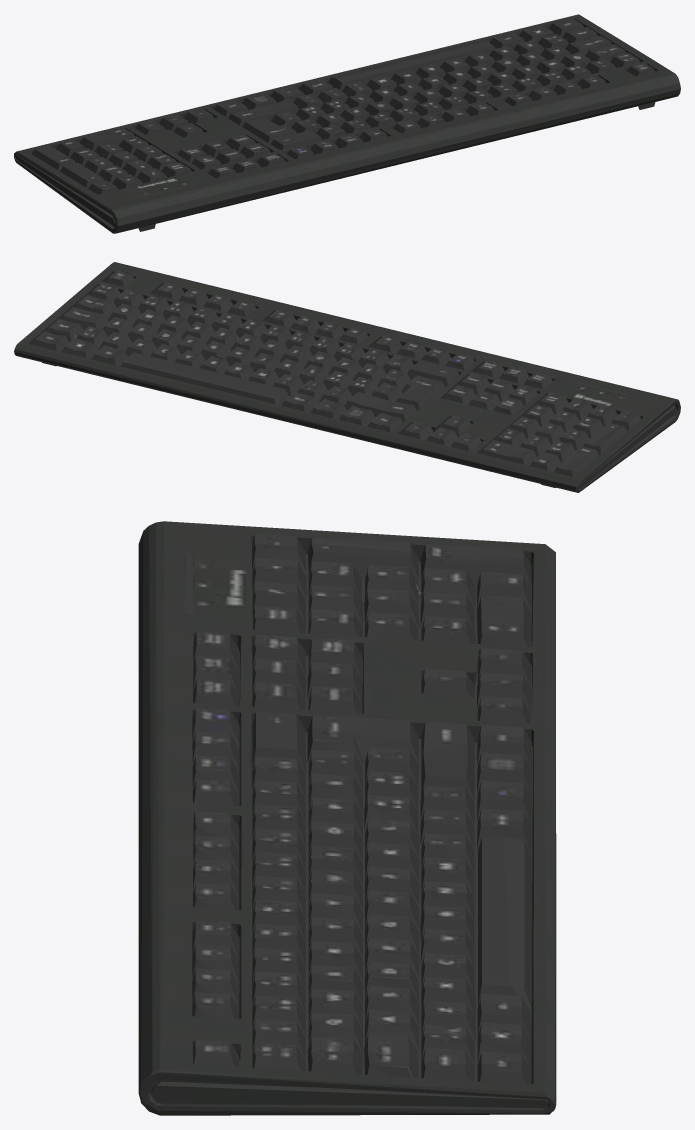
Rendered from keyboard.glb.
The picture shows the model from 3 angles, top to bottom: view 1: azimuth 30°, elevation 25°; view 2: azimuth 150°, elevation 25°; view 3: azimuth 270°, elevation 25°; orthographic projection. The views are drawn at different scales.
Visible parts, largest first — view 1: sm_computer_keyboard_a01_mesh_00_0; view 2: sm_computer_keyboard_a01_mesh_00_0; view 3: sm_computer_keyboard_a01_mesh_00_0.
Part boxes in pixels (x1,y1,x2,y2): sm_computer_keyboard_a01_mesh_00_0: (14,14,680,233); sm_computer_keyboard_a01_mesh_00_0: (14,262,680,492); sm_computer_keyboard_a01_mesh_00_0: (138,521,556,1115).
Bounding box in the file's own units: 0.442 × 0.0201 × 0.142.
Materials: 1 (1 with a texture image).
